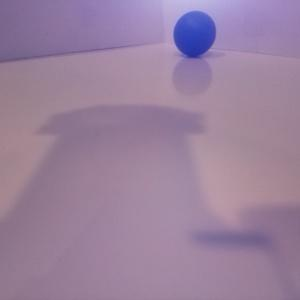dead_ball: (174, 11, 216, 57)
